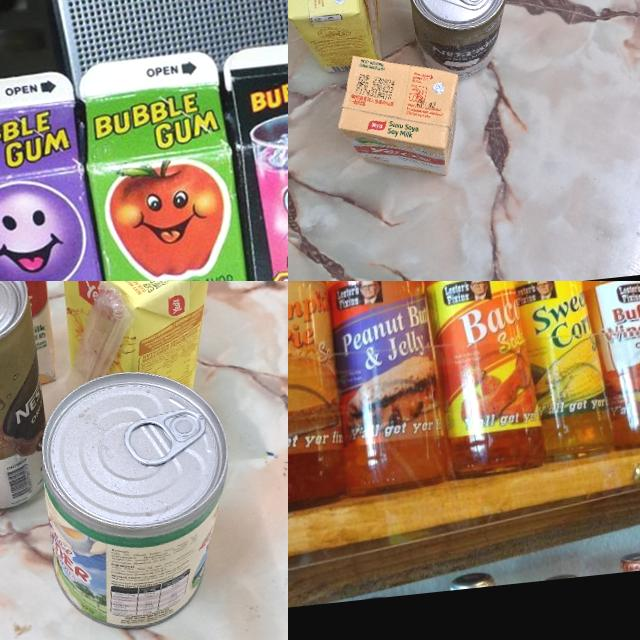aba de lata: (122, 404, 210, 468), (437, 0, 492, 11)
caixinha: (76, 48, 258, 281), (0, 66, 123, 281), (54, 281, 223, 403), (331, 45, 468, 186), (221, 34, 288, 281), (288, 0, 386, 77)
garrafa de vidro: (311, 281, 449, 497), (408, 281, 546, 478), (490, 281, 616, 462), (288, 281, 349, 511), (568, 281, 640, 448)
lata: (32, 359, 244, 633), (0, 281, 57, 516), (404, 0, 516, 79)
